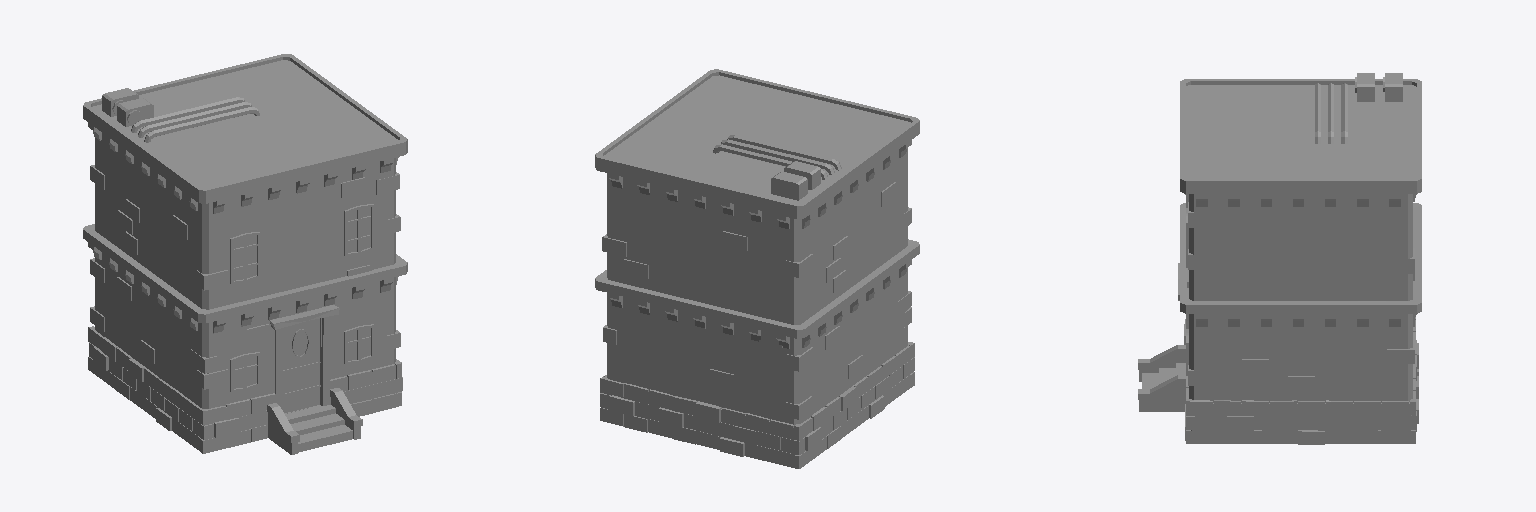
Rendered from 2Story_Stairs.obj.
3 views of the same model, side by side, from view 1: azimuth 30°, elevation 25°; view 2: azimuth 150°, elevation 25°; view 3: azimuth 270°, elevation 25° (orthographic).
Parts seen in each view (by area): view 1: 2Story_Stairs_Cube.076; view 2: 2Story_Stairs_Cube.076; view 3: 2Story_Stairs_Cube.076.
Part boxes in pixels (left/top/right/bottom): 2Story_Stairs_Cube.076: left=83, top=54, right=407, bottom=454; 2Story_Stairs_Cube.076: left=595, top=69, right=919, bottom=468; 2Story_Stairs_Cube.076: left=1138, top=73, right=1421, bottom=444.
Bounding box in the file's own units: 2.16 × 2.75 × 2.53.